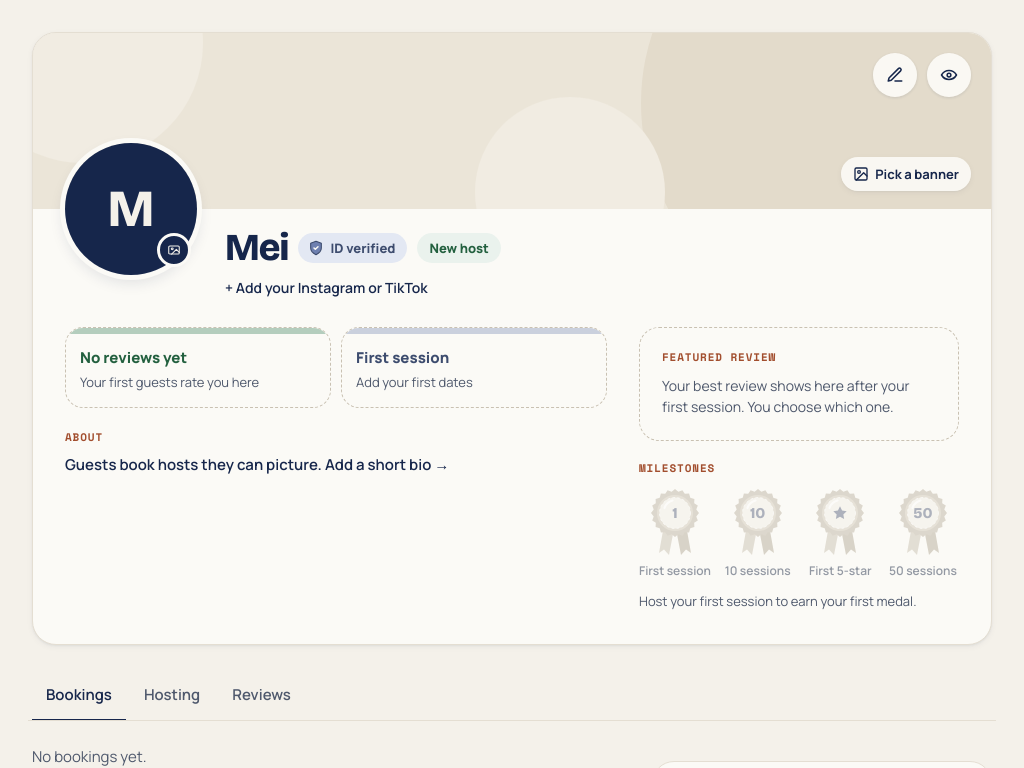
Test: Profile own tabs › shows private tabs and owner actions on your own profile
This screenshot has width=1024, height=768.
Expected: the navigation bar named "Profile" is shown, [28,669,996,721]
Expected: the link "Hosting" is shown, [144,684,200,705]
Click the button named "Profile photo".
click(131, 209)  # box [65,143,197,275]
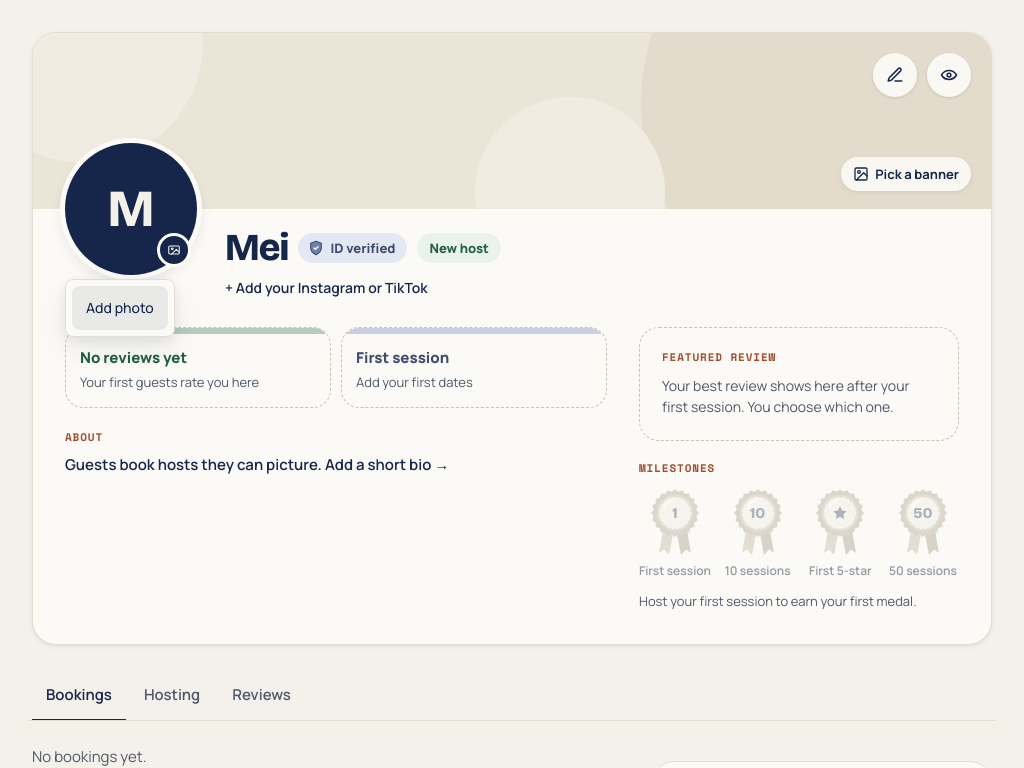
Result: the menu item "Add photo" is shown at [72,286,168,330]
